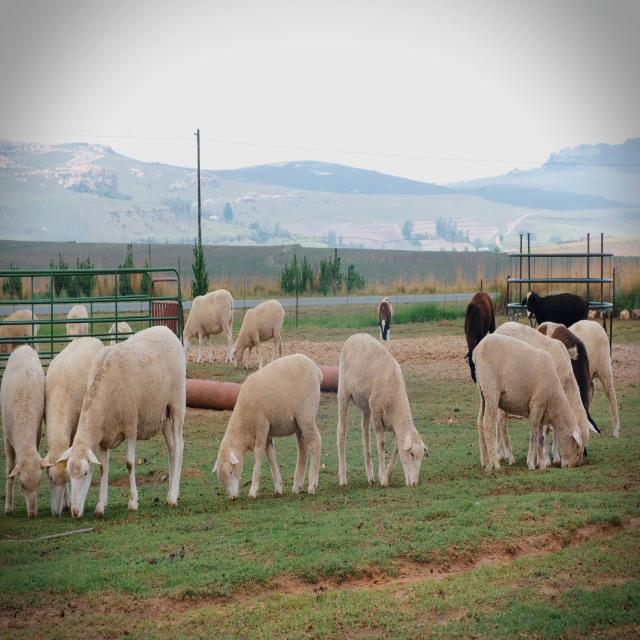sheep: (66, 325, 190, 530), (212, 354, 330, 508), (470, 335, 584, 487), (332, 328, 432, 498), (1, 346, 44, 522), (221, 302, 296, 378), (44, 348, 69, 516)
